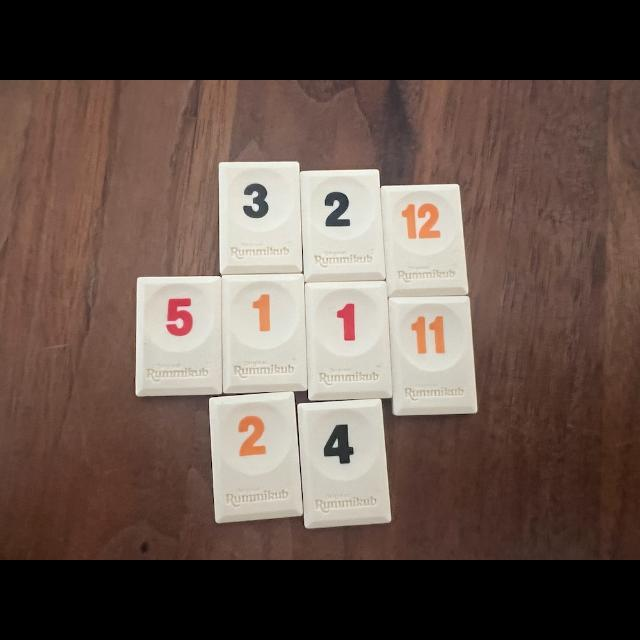black_2: (300, 169, 385, 282)
black_3: (220, 162, 302, 275)
black_4: (298, 399, 391, 529)
orange_1: (221, 274, 307, 394)
orange_11: (389, 298, 478, 414)
orange_12: (380, 184, 469, 296)
orange_2: (209, 392, 302, 524)
red_1: (305, 281, 392, 400)
red_5: (135, 276, 221, 396)
